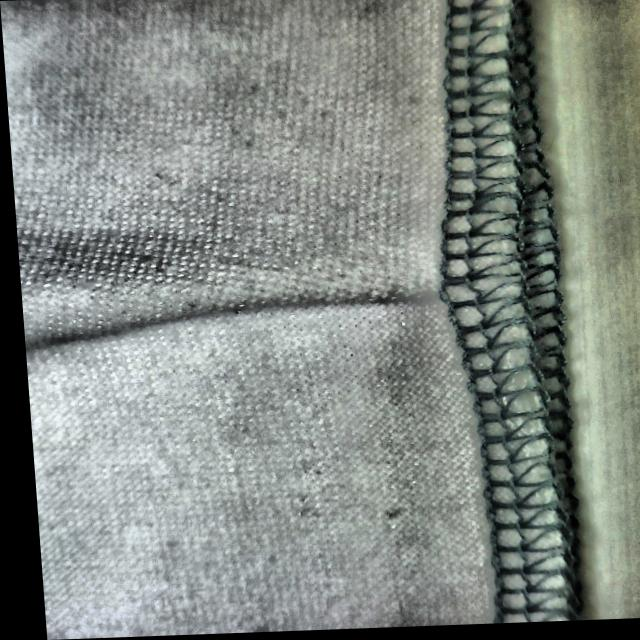seam: (207, 226, 522, 351)
